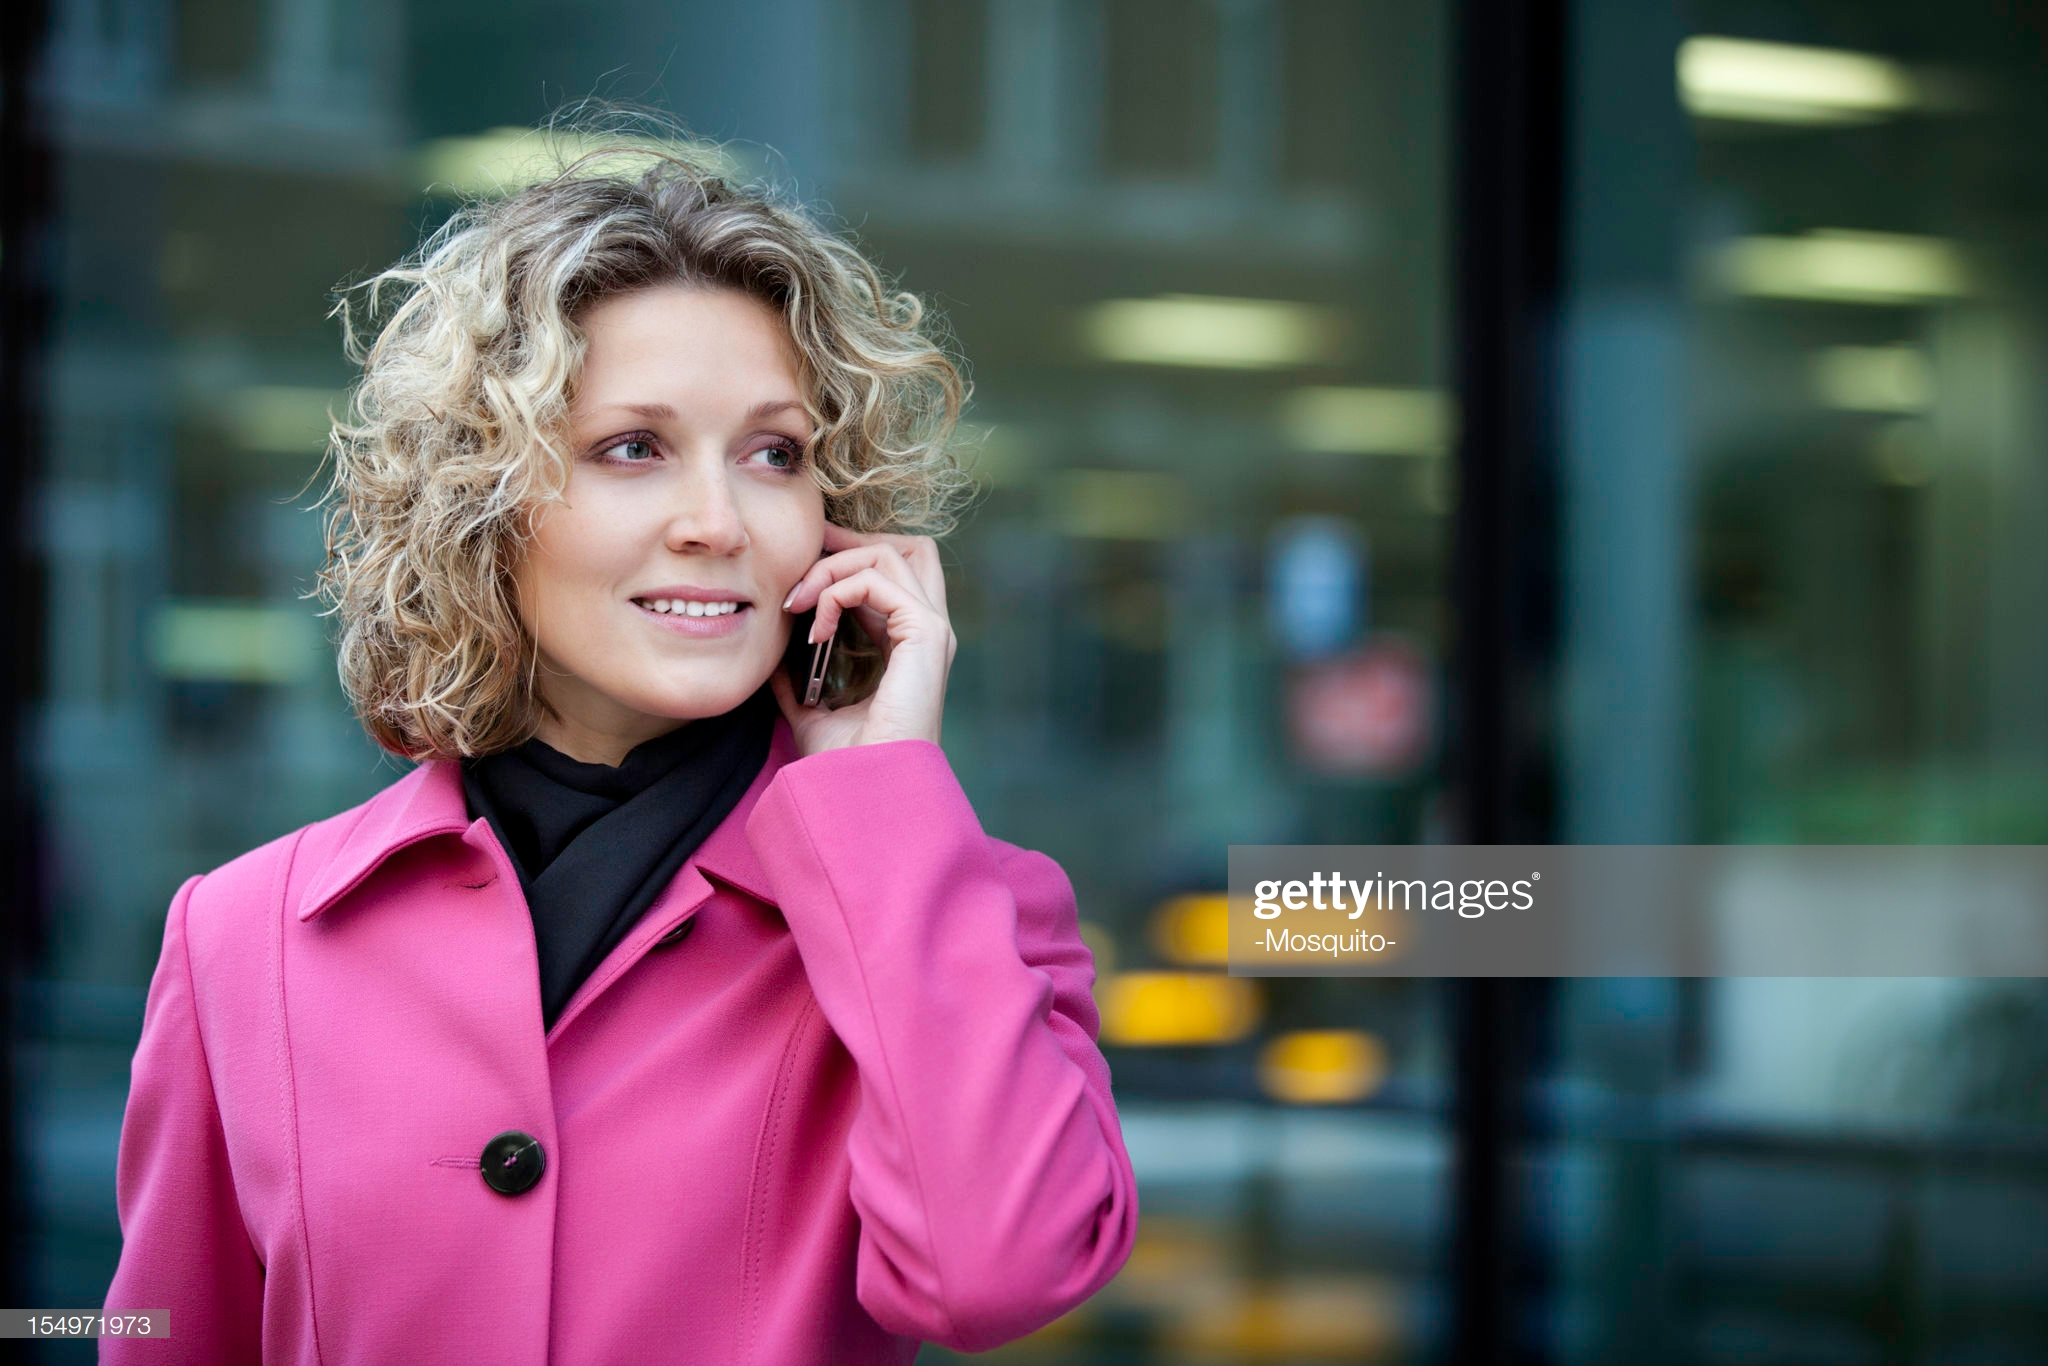phone: (760, 515, 965, 773)
talk: (542, 370, 990, 787)
